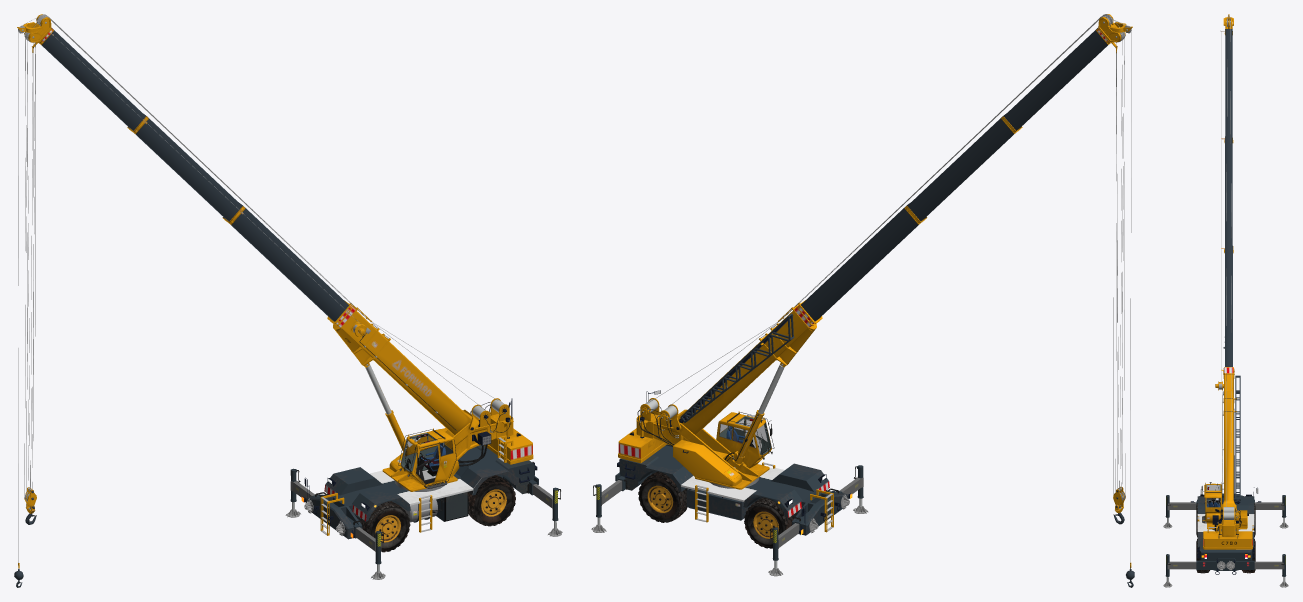
Rendered from crane_machine_med.glb.
3 renders of one model, left to right at view 1: azimuth 30°, elevation 25°; view 2: azimuth 150°, elevation 25°; view 3: azimuth 270°, elevation 25°, orthographic. The views are drawn at different scales.
Visible parts, largest first — view 1: polySurface51_hand__0, pCube59_base__0, pCube33_body__0, polySurface208_tyre__0, pCube15_cabin__0, polySurface110_hydrolic_lift__0, polySurface164_glass_1_0, polySurface220_rim_0, pCube139_lader__0, pCylinder370_other__0; view 2: polySurface51_hand__0, pCube59_base__0, pCube33_body__0, polySurface208_tyre__0, polySurface110_hydrolic_lift__0, pCube15_cabin__0, polySurface220_rim_0, pCylinder370_other__0, pCube139_lader__0, polySurface164_glass_1_0; view 3: polySurface51_hand__0, pCube59_base__0, polySurface110_hydrolic_lift__0, pCube33_body__0, pCylinder370_other__0, pCube15_cabin__0, polySurface208_tyre__0, pCylinder407_hydraulic__0, polySurface164_glass_1_0.
Part boxes in pixels (x1,y1,x2,y2): polySurface51_hand__0: (14,14,498,587); pCube59_base__0: (305,445,538,539); pCube33_body__0: (382,398,533,491); polySurface208_tyre__0: (327,475,515,552); pCube15_cabin__0: (398,428,459,488); polySurface110_hydrolic_lift__0: (285,468,562,579); polySurface164_glass_1_0: (401,435,452,480); polySurface220_rim_0: (307,479,506,542); pCube139_lader__0: (320,435,513,535); pCylinder370_other__0: (32,46,537,538); polySurface51_hand__0: (647,14,1134,587); pCube59_base__0: (615,444,848,535); pCube33_body__0: (618,398,769,489); polySurface208_tyre__0: (638,471,826,548); polySurface110_hydrolic_lift__0: (591,465,868,576); pCube15_cabin__0: (716,411,774,468); polySurface220_rim_0: (647,485,805,538); pCylinder370_other__0: (617,46,1117,534); pCube139_lader__0: (667,444,833,532); polySurface164_glass_1_0: (720,419,771,462); polySurface51_hand__0: (1215,14,1240,513); pCube59_base__0: (1197,493,1254,570); polySurface110_hydrolic_lift__0: (1163,495,1288,587); pCube33_body__0: (1203,506,1252,549); pCylinder370_other__0: (1190,378,1261,574); pCube15_cabin__0: (1200,482,1221,523); polySurface208_tyre__0: (1196,503,1255,573); pCylinder407_hydraulic__0: (1167,388,1284,564); polySurface164_glass_1_0: (1207,485,1220,506).
Size of the model in its own units: 27.46 by 31.08 by 8.59.
14 materials, 13 textured.
